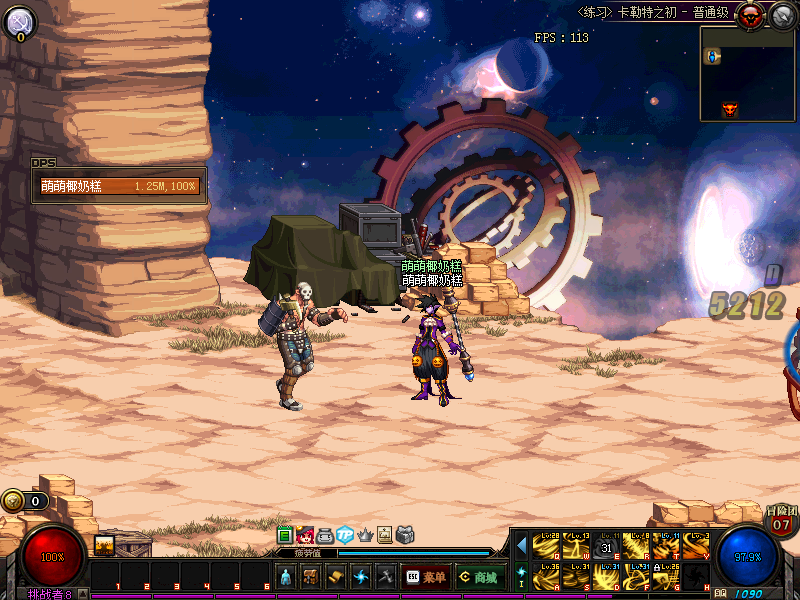BoneMan: (270, 282, 315, 401)
StormRider: (413, 292, 449, 407)
